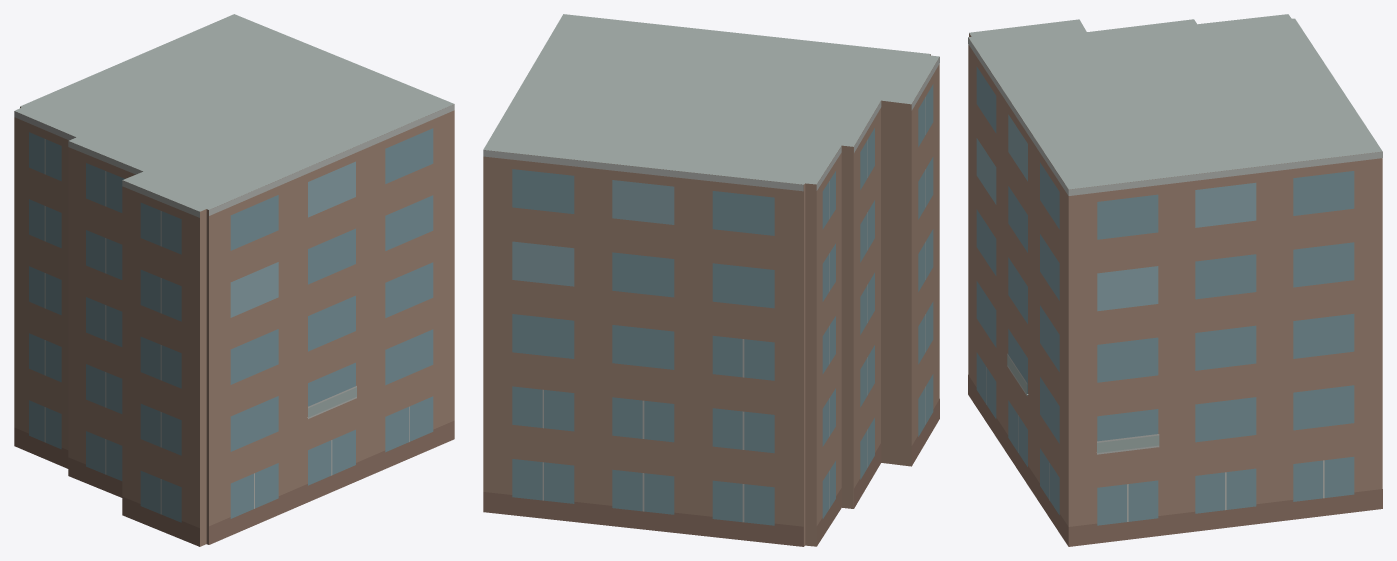
File: survey-upis-33012853.glb
3 renders of one model, left to right at view 1: azimuth 30°, elevation 25°; view 2: azimuth 150°, elevation 25°; view 3: azimuth 270°, elevation 25°, orthographic. The views are drawn at different scales.
Parts seen in each view (by area): view 1: survey-upis-33012853.tmp; view 2: survey-upis-33012853.tmp; view 3: survey-upis-33012853.tmp.
Boxes of the visible parts, x1,y1,x2,y2 form: survey-upis-33012853.tmp: (14, 14, 454, 546); survey-upis-33012853.tmp: (483, 14, 939, 546); survey-upis-33012853.tmp: (968, 14, 1382, 546).
Size of the model in its own units: 13.92 by 13.2 by 13.89.
